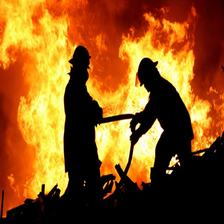fire: (1, 1, 67, 190), (109, 7, 208, 58), (187, 79, 223, 156), (94, 71, 149, 113), (162, 53, 213, 86), (95, 124, 129, 158)
